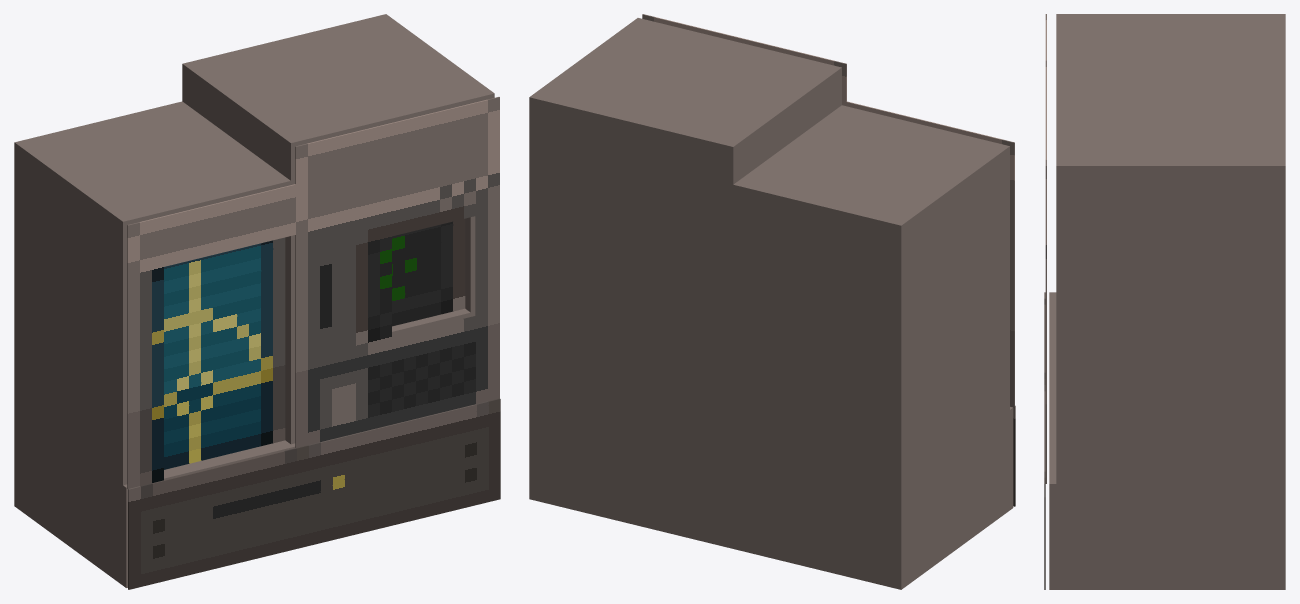
The model's file is CMU3DTelecomMappingConsole.glb.
3 views of the same model, side by side, from view 1: azimuth 30°, elevation 25°; view 2: azimuth 150°, elevation 25°; view 3: azimuth 270°, elevation 25° (orthographic). The views are drawn at different scales.
Parts seen in each view (by area): view 1: right controller housing, lower original service cabinet, recessed mapping glass, left map upper lintel, left map jamb, tower rear casting, central equipment column, left map housing, right display top, lower controller cabinet, recessed status display, right display jamb (+1 smaller); view 2: tower rear casting, central equipment column, left map upper lintel, right display top, lower controller cabinet, left map jamb, right keyboard plinth, right display jamb, left map housing, right controller housing; view 3: tower rear casting, right display top, right display jamb, lower controller cabinet, central equipment column, left map upper lintel, right controller housing, lower original service cabinet.
Boxes of the visible parts, box(x1,y1,x2,y2) form: right controller housing: box(295, 97, 499, 447); lower original service cabinet: box(128, 398, 500, 589); recessed mapping glass: box(164, 237, 285, 469); left map upper lintel: box(14, 101, 290, 271); left map jamb: box(14, 194, 127, 485); tower rear casting: box(14, 193, 89, 529); central equipment column: box(182, 40, 386, 444); left map housing: box(127, 184, 295, 488); right display top: box(279, 14, 494, 123); lower controller cabinet: box(14, 428, 295, 587); recessed status display: box(392, 218, 465, 326); right display jamb: box(465, 216, 475, 316); tower rear casting: box(529, 188, 976, 589); central equipment column: box(637, 44, 841, 447); left map upper lintel: box(733, 105, 1009, 275); right display top: box(529, 18, 745, 235); lower controller cabinet: box(529, 399, 1013, 589); left map jamb: box(865, 196, 1009, 488); right keyboard plinth: box(553, 316, 637, 424); right display jamb: box(529, 210, 553, 403); left map housing: box(846, 101, 1014, 406); right controller housing: box(642, 14, 846, 105); tower rear casting: box(1126, 258, 1285, 589); right display top: box(1056, 110, 1285, 284); right display jamb: box(1056, 285, 1285, 483); lower controller cabinet: box(1049, 292, 1285, 589); central equipment column: box(1056, 60, 1285, 110); left map upper lintel: box(1056, 14, 1285, 60); right controller housing: box(1045, 60, 1046, 483); lower original service cabinet: box(1044, 292, 1045, 589).
Size of what is drawn, in the model's own units: 0.9688 by 1 by 0.516.
6 materials, 5 textured.
